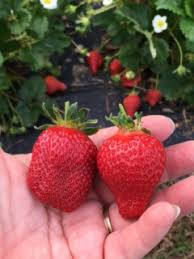ripe: (95, 127, 170, 220), (26, 126, 103, 211), (43, 75, 70, 97), (122, 91, 139, 121), (87, 48, 105, 75)
